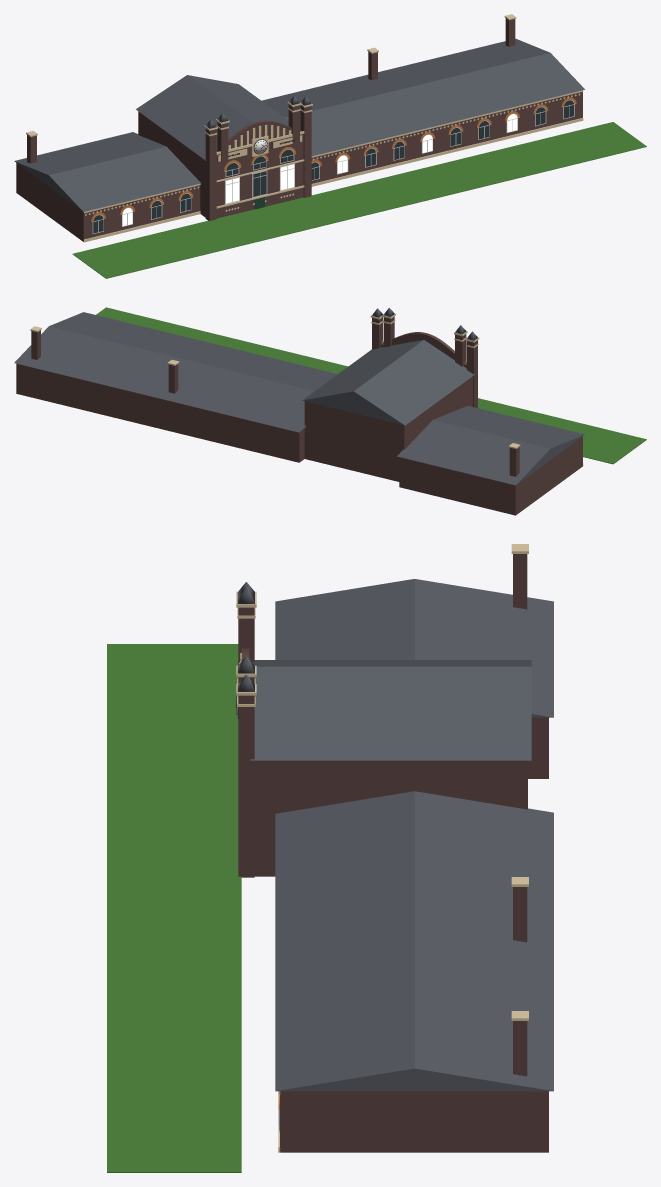
The model's file is lm_stoomweverij.glb.
3 renders of one model, top to bottom at view 1: azimuth 30°, elevation 25°; view 2: azimuth 150°, elevation 25°; view 3: azimuth 270°, elevation 25°, orthographic. The views are drawn at different scales.
Visible parts, largest first — view 1: lawn, east_roof, west_roof, roof, east_shed, west_shed, front, body, tower0, east_plinth, tower1, east_frieze (+2 smaller); view 2: east_roof, east_shed, roof, west_roof, body, west_shed, lawn, front, tower0, tower2, tower3, tower1; view 3: east_roof, lawn, roof, west_roof, east_shed, body, tower1, west_shed.
Part boxes in pixels (box(x1,y1,x2,y2)): lawn: box(72, 122, 646, 278); east_roof: box(262, 38, 584, 156); west_roof: box(14, 132, 200, 211); roof: box(136, 75, 300, 160); east_shed: box(311, 92, 582, 183); west_shed: box(16, 163, 200, 241); front: box(216, 120, 303, 218); body: box(138, 111, 205, 217); tower0: box(205, 128, 216, 220); east_plinth: box(311, 118, 583, 186); tower1: box(300, 105, 311, 197); east_frieze: box(311, 90, 583, 157); east_roof: box(14, 312, 337, 432); east_shed: box(16, 363, 304, 462); roof: box(302, 340, 475, 425); west_roof: box(397, 406, 584, 485); body: box(304, 376, 472, 481); west_shed: box(399, 436, 582, 515); lawn: box(96, 307, 646, 464); front: box(380, 332, 466, 367); tower0: box(466, 340, 477, 407); tower2: box(455, 334, 466, 366); tower3: box(383, 316, 394, 347); tower1: box(372, 317, 382, 349); east_roof: box(275, 791, 553, 1091); lawn: box(107, 644, 241, 1172); roof: box(250, 660, 531, 760); west_roof: box(275, 579, 553, 717); east_shed: box(280, 1091, 548, 1152); body: box(254, 760, 527, 876); tower1: box(238, 695, 254, 877); west_shed: box(528, 717, 548, 778).
Bounding box in the file's own units: 130 × 23.7 × 46.5.
